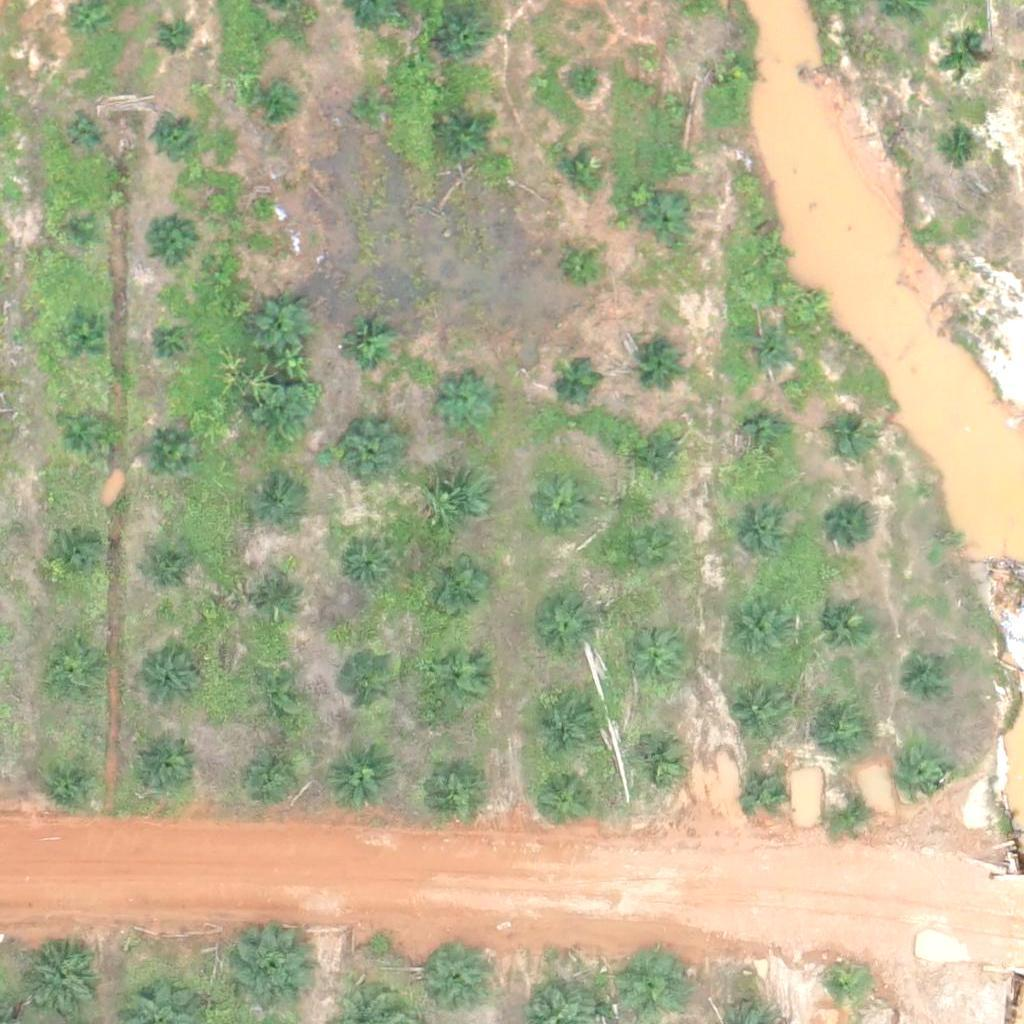Kelapa_Sawit: (231, 923, 319, 1011), (419, 945, 494, 1021), (25, 944, 100, 1019), (613, 527, 676, 590), (728, 503, 791, 566), (336, 320, 399, 383), (340, 420, 403, 483), (327, 747, 390, 810), (726, 600, 789, 663), (136, 730, 199, 793), (47, 637, 110, 700), (37, 748, 100, 811), (423, 645, 486, 708), (421, 752, 484, 815), (337, 652, 400, 715), (533, 769, 596, 832), (622, 950, 685, 1013), (813, 696, 876, 759), (727, 681, 790, 744), (250, 296, 313, 359), (43, 527, 106, 589), (424, 559, 486, 622), (535, 474, 597, 537), (434, 372, 496, 435), (537, 691, 599, 754), (249, 665, 311, 728), (534, 595, 596, 658), (623, 633, 685, 696), (628, 731, 690, 794), (813, 591, 875, 654), (252, 385, 314, 448), (430, 472, 492, 535), (244, 747, 306, 809), (140, 652, 202, 714), (442, 10, 492, 61), (441, 113, 491, 164), (740, 766, 790, 817), (826, 787, 876, 838), (147, 215, 197, 266), (552, 145, 602, 196), (147, 553, 197, 603), (249, 485, 299, 535), (257, 578, 307, 628), (340, 541, 390, 591), (143, 425, 193, 475), (829, 502, 879, 552), (636, 333, 686, 383), (554, 358, 604, 408), (61, 405, 111, 455), (743, 328, 793, 378), (642, 197, 692, 247), (739, 413, 789, 463), (825, 412, 875, 462), (897, 753, 947, 803), (907, 648, 957, 698), (819, 961, 869, 1011), (633, 437, 683, 487), (147, 317, 197, 367), (60, 313, 110, 363), (751, 235, 789, 273), (563, 246, 601, 284), (58, 212, 96, 250), (941, 36, 979, 74), (942, 127, 980, 165), (655, 87, 693, 125), (157, 19, 195, 57), (257, 83, 295, 121), (719, 49, 756, 87), (353, 89, 390, 127), (154, 115, 191, 153), (62, 113, 99, 151), (565, 68, 602, 105)
